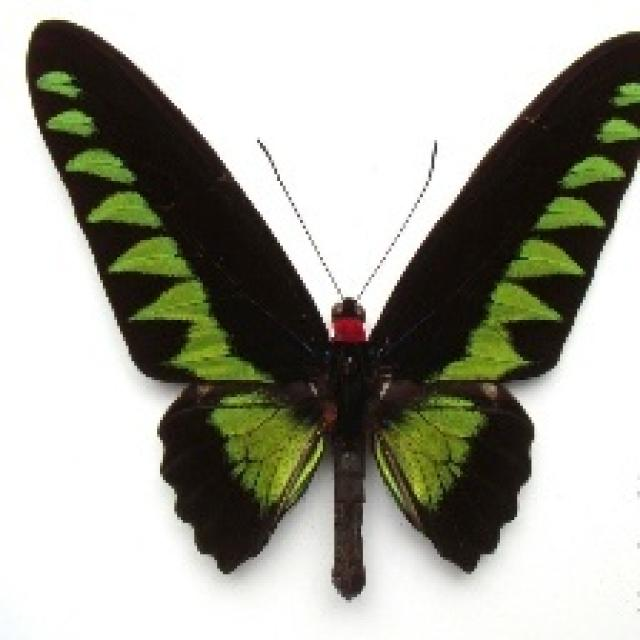butterfly: (23, 14, 637, 600)
